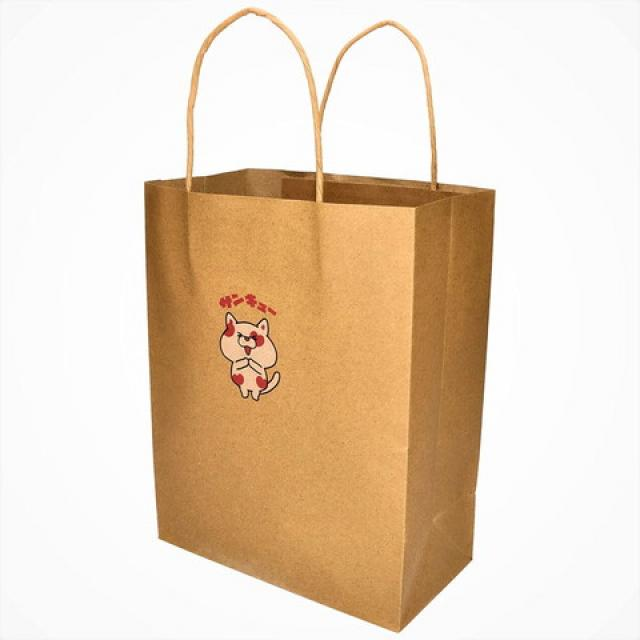paper bag: (141, 2, 499, 635)
